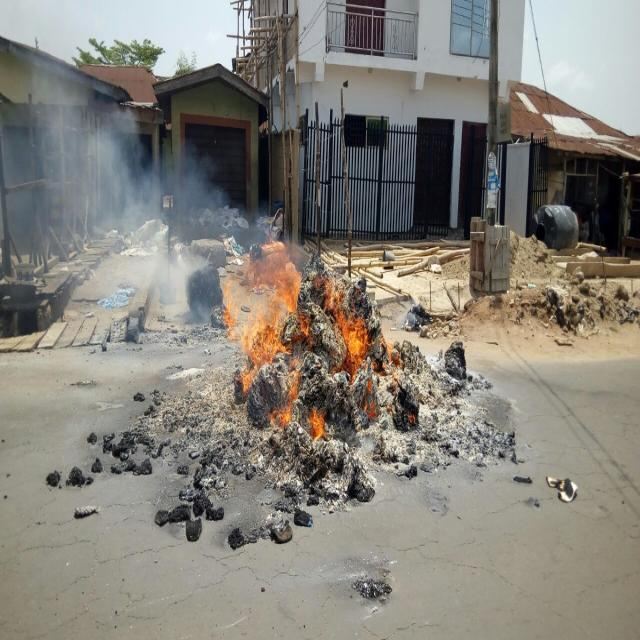fire: (231, 251, 297, 381), (340, 313, 369, 377)
smoke: (58, 123, 198, 286)
